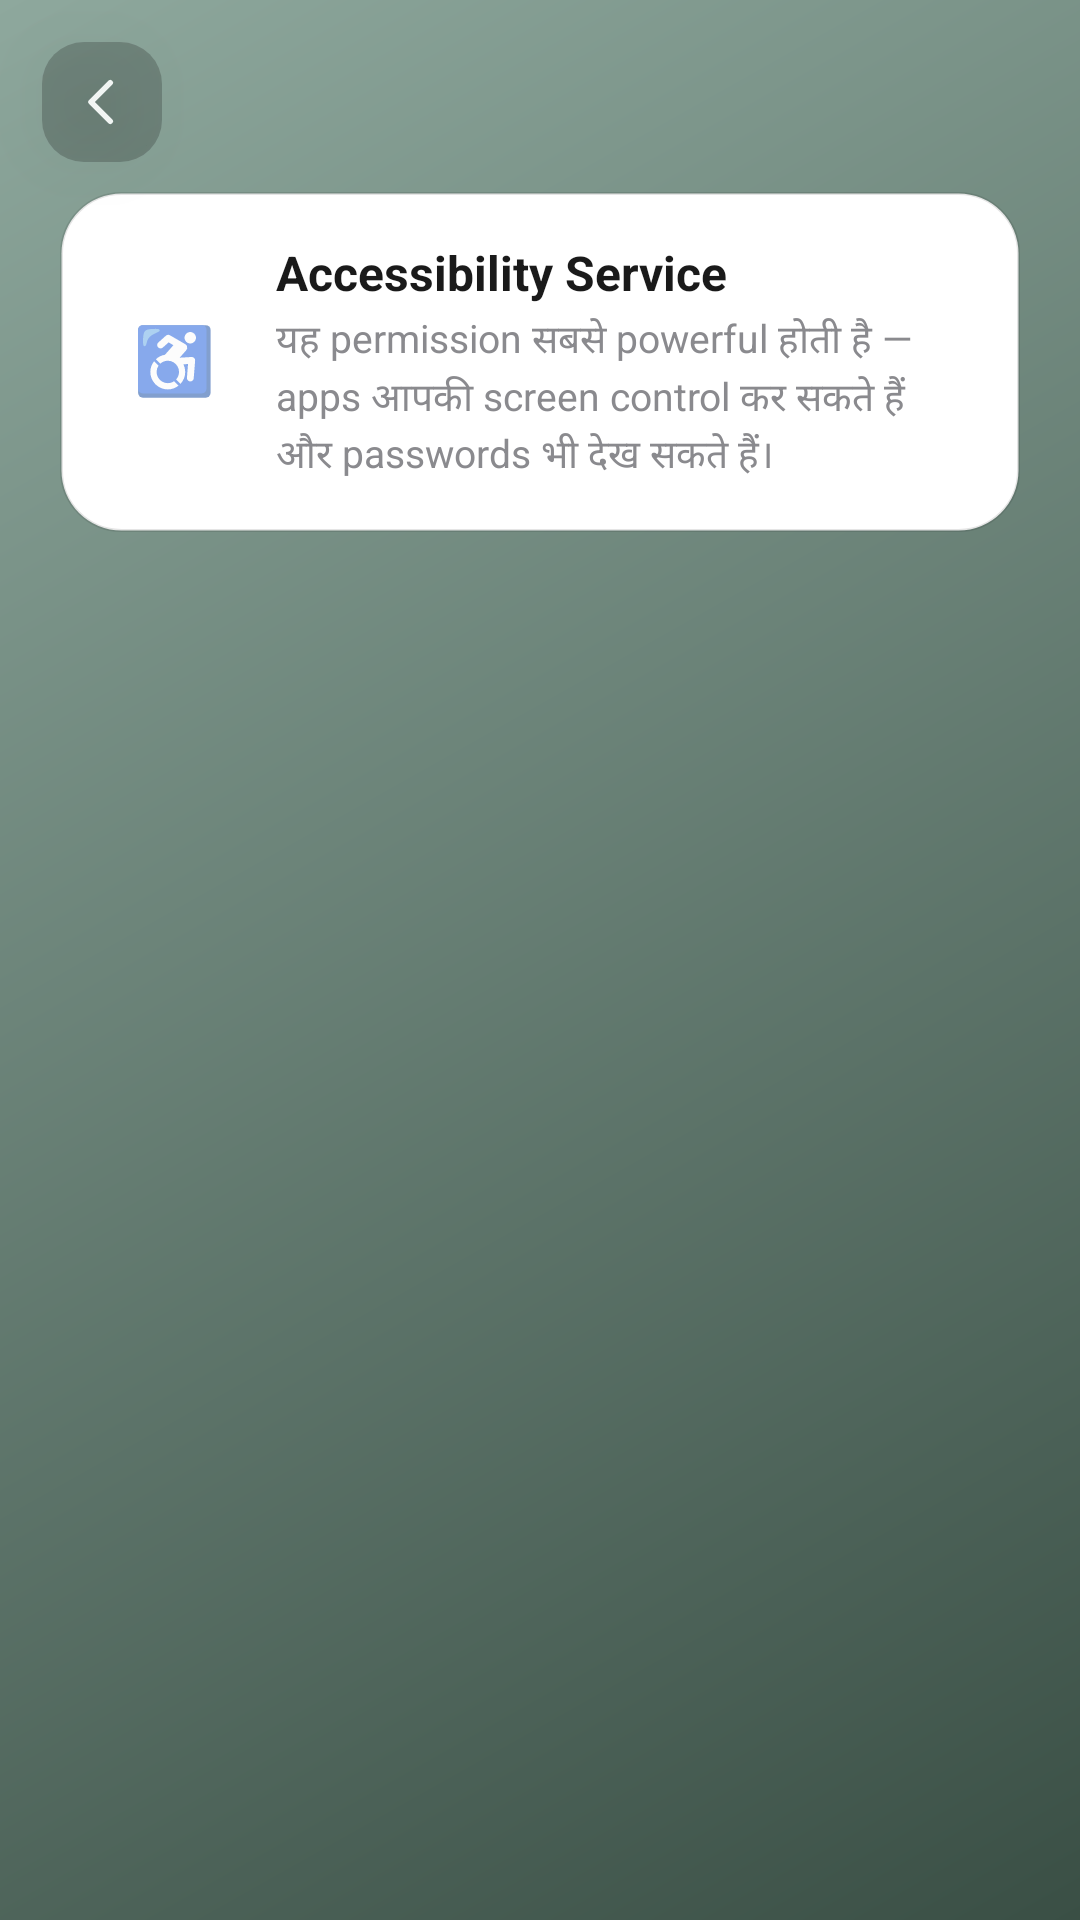

Where to tap for icons on this 1080px x 1920px app screen, as point (x, y):
back arrow: point (102, 102)
